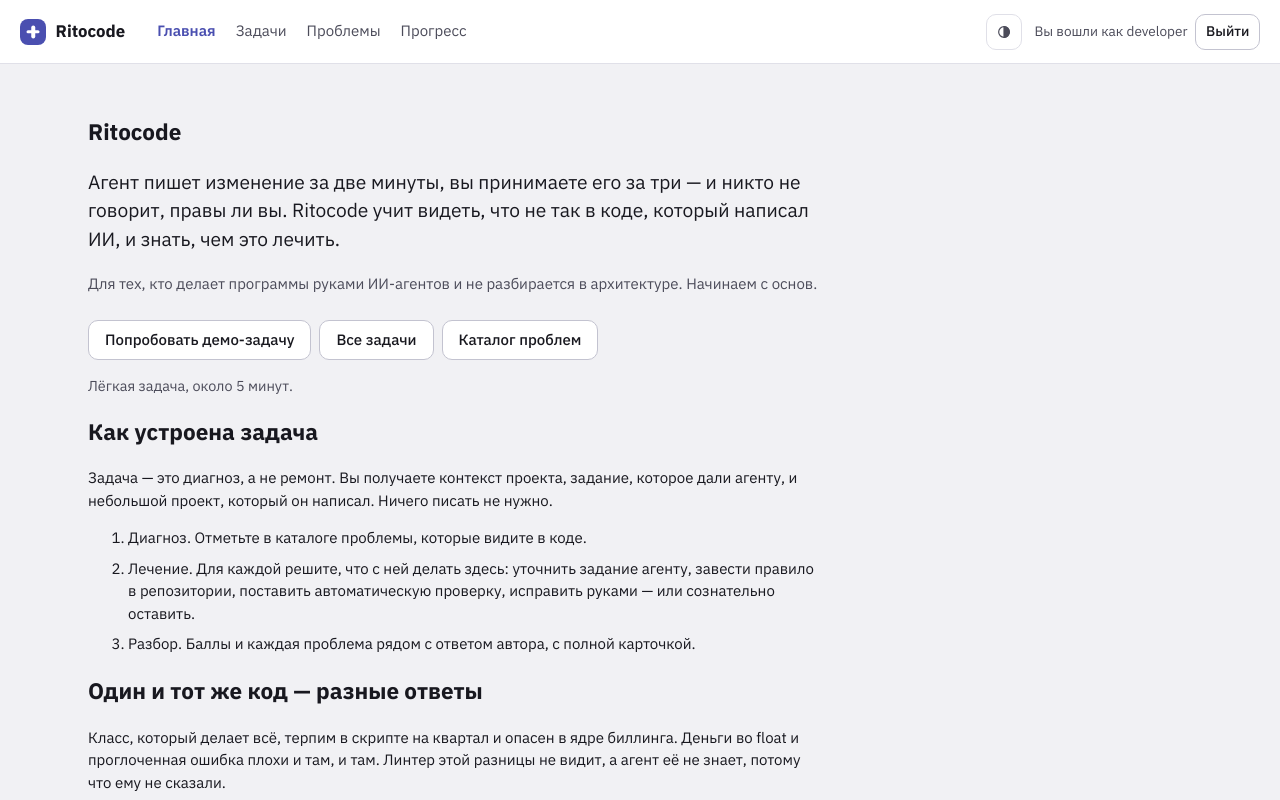
Test case: signing in and out from the header › signs out: ends the session on the server, then shows nobody signed in
Click the button "Выйти" at (1228, 32), box [1196,14,1260,50]
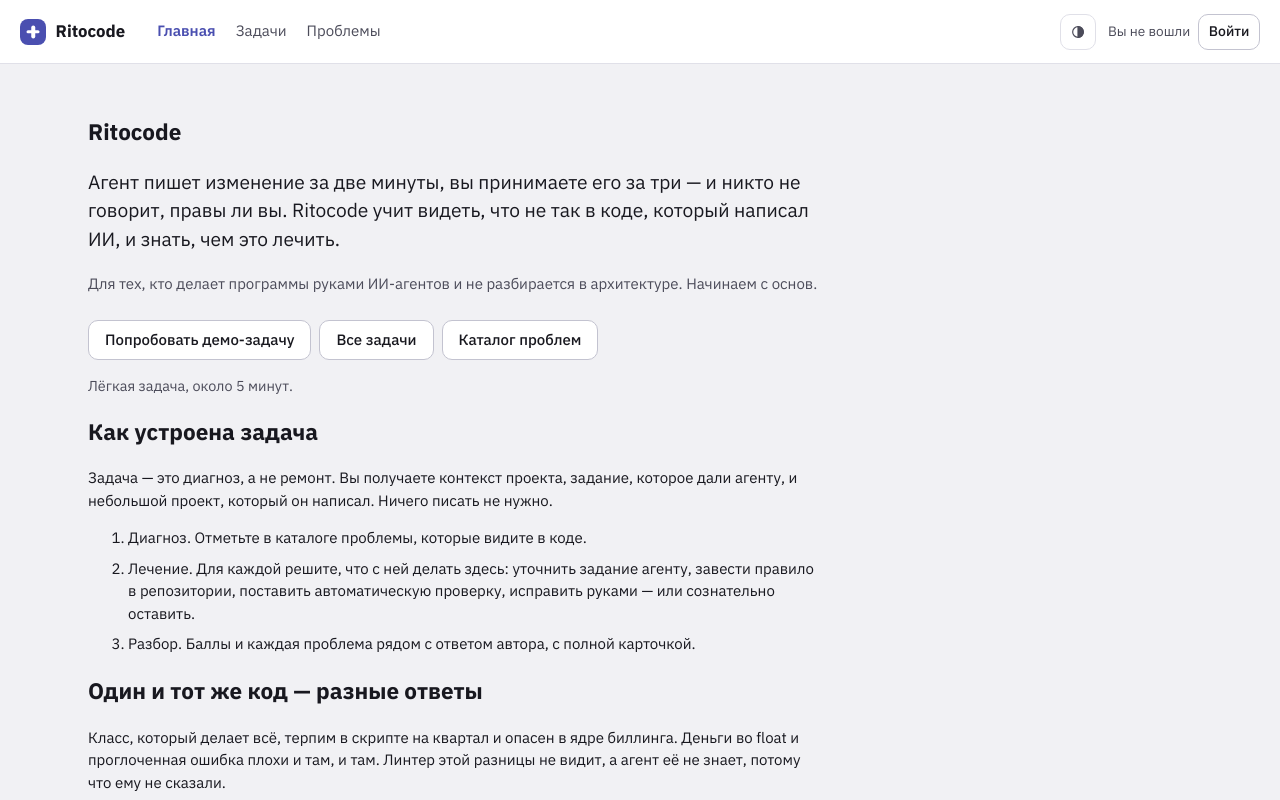
Result: the text "Вы не вошли" is shown at [1108,21,1190,42]
Result: the link "Прогресс" is gone
